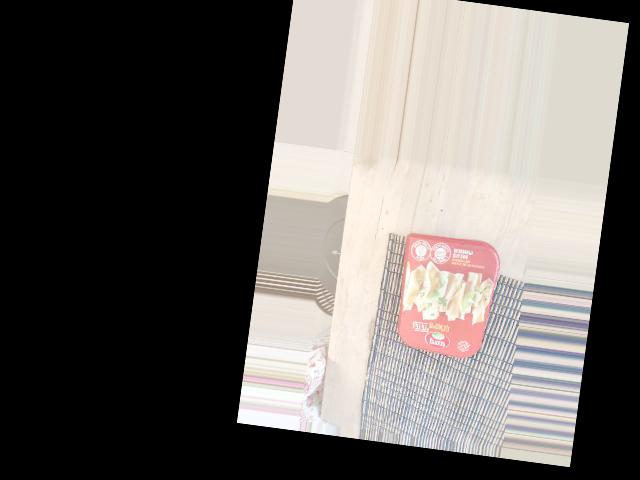cheese: (380, 314, 524, 418)
